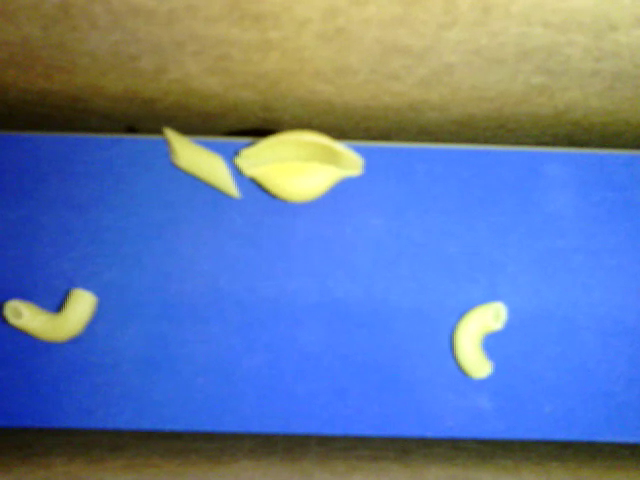elbow: (3, 285, 100, 344), (452, 301, 508, 380)
penne: (163, 126, 240, 199)
shell: (233, 126, 364, 203)
